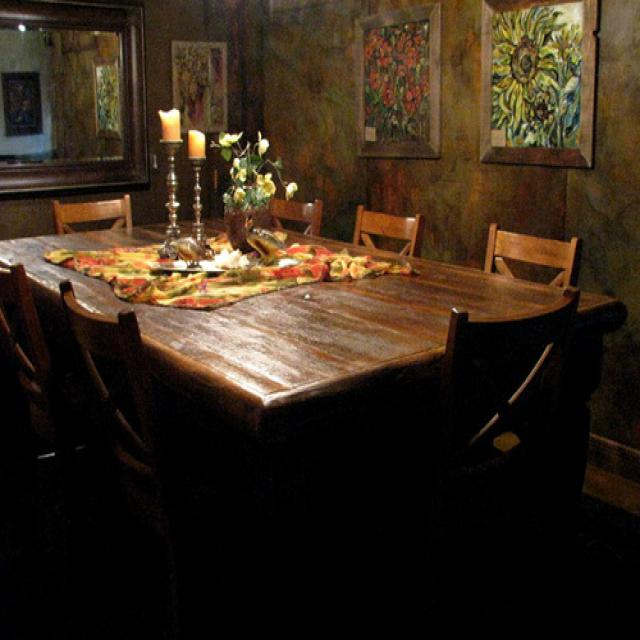Table: (0, 171, 630, 631)
chair: (433, 277, 607, 616), (58, 265, 197, 640), (0, 239, 54, 527), (480, 203, 593, 313), (45, 169, 137, 279), (340, 170, 423, 288), (255, 159, 334, 251)
